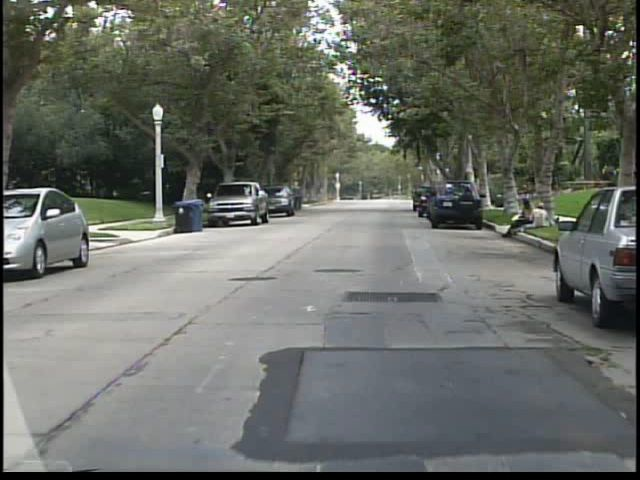person: (502, 197, 537, 241), (527, 203, 548, 228)
